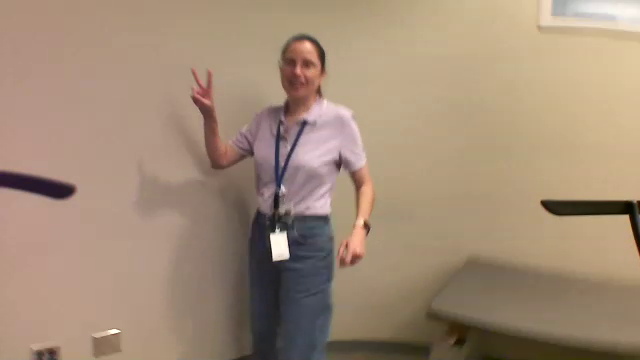peace: (187, 63, 214, 107)
